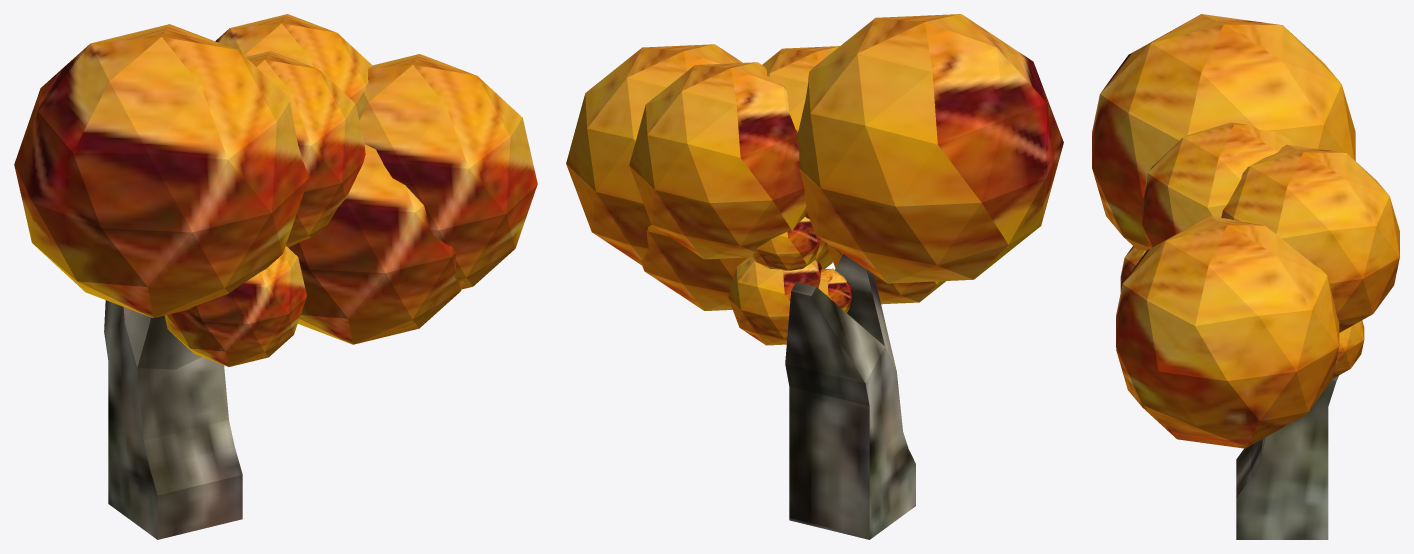
File: Tree9.fbx
3 views of the same model, side by side, from view 1: azimuth 30°, elevation 25°; view 2: azimuth 150°, elevation 25°; view 3: azimuth 270°, elevation 25° (orthographic). The views are drawn at different scales.
Parts seen in each view (by area): view 1: Tree 9; view 2: Tree 9; view 3: Tree 9.
Boxes of the visible parts, x1,y1,x2,y2 form: Tree 9: [14, 14, 537, 539]; Tree 9: [566, 14, 1063, 539]; Tree 9: [1092, 14, 1399, 539].
Size of the model in its own units: 670 by 1152 by 1142.
